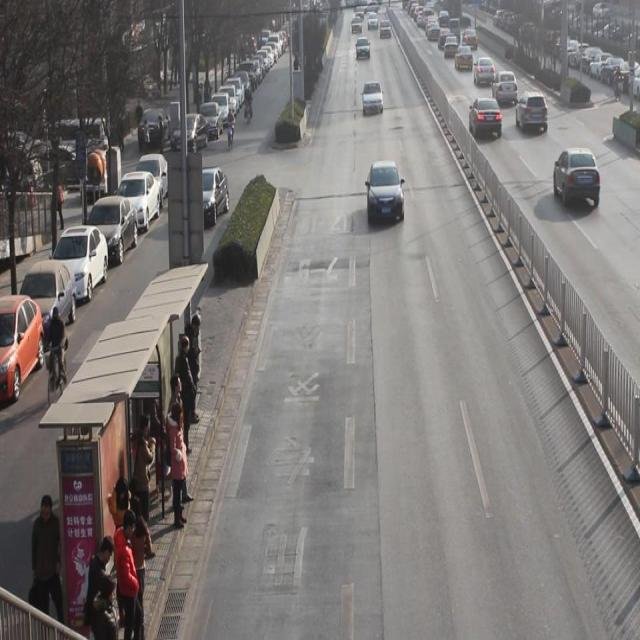car: (181, 163, 227, 226), (554, 148, 600, 209), (367, 160, 405, 226), (517, 89, 548, 137), (469, 97, 503, 139), (493, 72, 519, 106), (361, 81, 383, 117), (474, 56, 496, 90), (454, 45, 472, 71), (462, 27, 478, 52), (445, 32, 459, 60), (356, 38, 371, 60), (350, 16, 364, 36), (379, 18, 392, 38), (367, 12, 378, 32)
